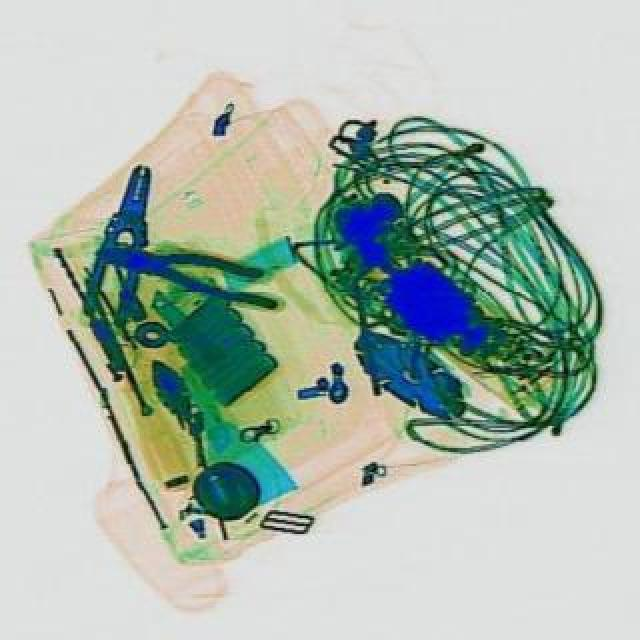wrench: (92, 232, 286, 310), (76, 158, 160, 330)
